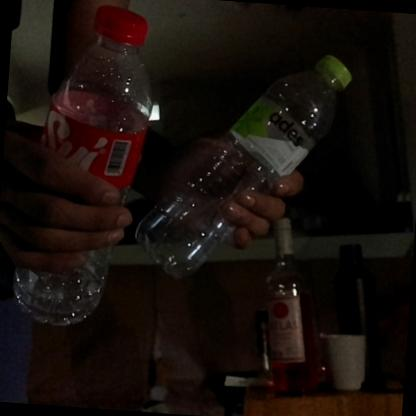plastic_bottles: (132, 40, 356, 291), (11, 0, 160, 333)
